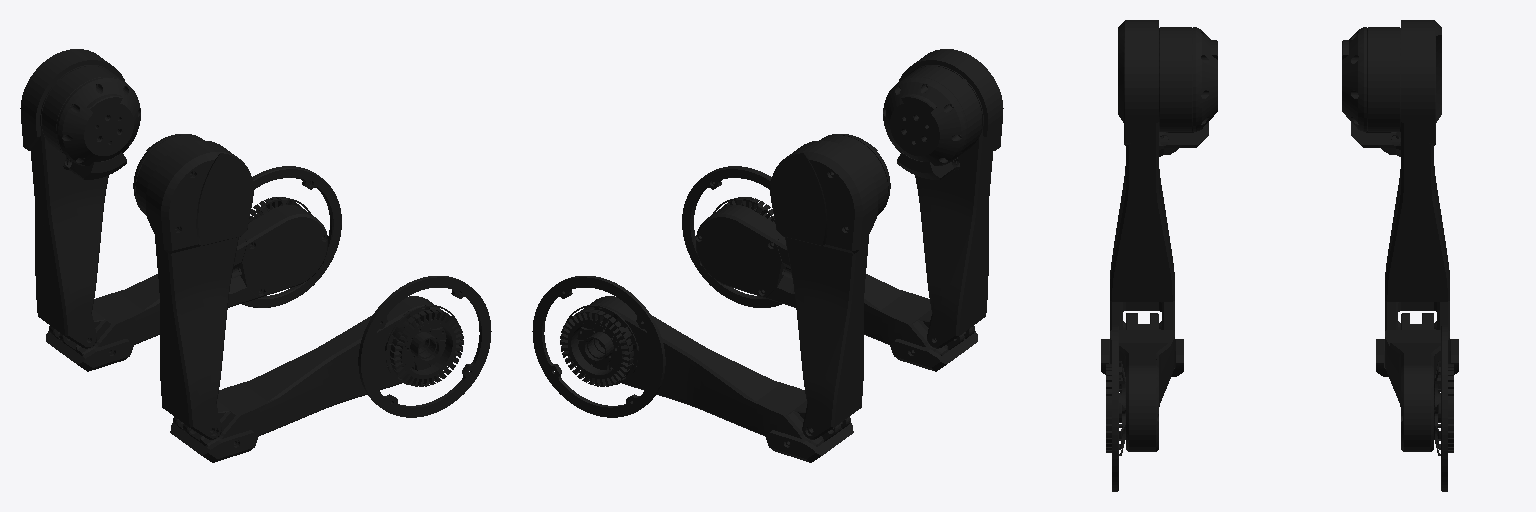
URDF robot description (rhea):
<?xml version="1.0"?>
<!-- created with Phobos 1.0.1 "Capricious Choutengan" -->
  <robot name="rhea">

    <link name="base_link">
      <inertial>
        <origin xyz="0 0 0" rpy="0 0 0"/>
        <mass value="4.0"/>
        <inertia ixx="0.01" ixy="0" ixz="0" iyy="0.01" iyz="0" izz="0.01"/>
      </inertial>
      <visual name="rheav2">
        <origin xyz="0 0 0" rpy="0 0 0"/>
        <geometry>
          <mesh filename="package://rhea_description/meshes/dae/rheav2.dae" scale="1.0 1.0 1.0"/>
        </geometry>
        <material name="Rubber_-_Soft.002"/>
      </visual>
      <collision name="Cube">
        <origin xyz="0 0 -0.01575" rpy="0 0 0"/>
        <geometry>
          <box size="0.216 0.14 0.231"/>
        </geometry>
      </collision>
    </link>

    <link name="imu">
      <inertial>
        <origin xyz="0 0 0" rpy="0 0 0"/>
        <mass value="0.001"/>
        <inertia ixx="0.001" ixy="0" ixz="0" iyy="0.001" iyz="0" izz="0.001"/>
      </inertial>
    </link>

    <link name="left_hip">
      <inertial>
        <origin xyz="0 0 0" rpy="0 0 0"/>
        <mass value="1.0"/>
        <inertia ixx="0.01" ixy="0" ixz="0" iyy="0.01" iyz="0" izz="0.01"/>
      </inertial>
      <visual name="rheav2.006">
        <origin xyz="0 0 0" rpy="1.5708 0 -1.5708"/>
        <geometry>
          <mesh filename="package://rhea_description/meshes/dae/rheav2.006.dae" scale="1.0 1.0 1.0"/>
        </geometry>
        <material name="Rubber_-_Soft.002"/>
      </visual>
      <collision name="Cube.004">
        <origin xyz="0.09575 0 0" rpy="1.5708 0 -1.5708"/>
        <geometry>
          <box size="0.05693 0.0756 0.30004"/>
        </geometry>
      </collision>
    </link>

    <link name="left_knee">
      <inertial>
        <origin xyz="0 0 0" rpy="0 0 0"/>
        <mass value="0.5"/>
        <inertia ixx="0.01" ixy="0" ixz="0" iyy="0.01" iyz="0" izz="0.01"/>
      </inertial>
      <visual name="rheav2.004">
        <origin xyz="0 0 0" rpy="1.5708 0 -1.5708"/>
        <geometry>
          <mesh filename="package://rhea_description/meshes/dae/rheav2.004.dae" scale="1.0 1.0 1.0"/>
        </geometry>
        <material name="Rubber_-_Soft.002"/>
      </visual>
      <collision name="Cube.003">
        <origin xyz="0.12575 0 0" rpy="1.5708 0 -1.5708"/>
        <geometry>
          <box size="0.05693 0.028 0.30004"/>
        </geometry>
      </collision>
    </link>

    <link name="left_wheel">
      <inertial>
        <origin xyz="0 0 0" rpy="0 0 0"/>
        <mass value="1.0"/>
        <inertia ixx="0.01" ixy="0" ixz="0" iyy="0.01" iyz="0" izz="0.01"/>
      </inertial>
      <visual name="rheav2.005">
        <origin xyz="0 0 0.0445" rpy="1.5708 0 -1.5708"/>
        <geometry>
          <mesh filename="package://rhea_description/meshes/dae/rheav2.005.dae" scale="1.0 1.0 1.0"/>
        </geometry>
        <material name="Rubber_-_Soft.002"/>
      </visual>
      <collision name="Cylinder.003">
        <origin xyz="0 0 0.0445" rpy="0 0 -1.0472"/>
        <geometry>
          <cylinder radius="0.11" length="0.048"/>
        </geometry>
      </collision>
    </link>

    <link name="right_hip">
      <inertial>
        <origin xyz="0 0 0" rpy="0 0 0"/>
        <mass value="1.0"/>
        <inertia ixx="0.01" ixy="0" ixz="0" iyy="0.01" iyz="0" izz="0.01"/>
      </inertial>
      <visual name="rheav2.003">
        <origin xyz="0 0 0" rpy="-1.5708 0 1.5708"/>
        <geometry>
          <mesh filename="package://rhea_description/meshes/dae/rheav2.003.dae" scale="1.0 1.0 1.0"/>
        </geometry>
        <material name="Rubber_-_Soft.002"/>
      </visual>
      <collision name="Cube.002">
        <origin xyz="0.09575 0 0" rpy="-1.5708 0 1.5708"/>
        <geometry>
          <box size="0.05693 0.0756 0.30004"/>
        </geometry>
      </collision>
    </link>

    <link name="right_knee">
      <inertial>
        <origin xyz="0 0 0" rpy="0 0 0"/>
        <mass value="0.5"/>
        <inertia ixx="0.01" ixy="0" ixz="0" iyy="0.01" iyz="0" izz="0.01"/>
      </inertial>
      <visual name="rheav2.001">
        <origin xyz="0 0 0" rpy="-1.5708 0 1.5708"/>
        <geometry>
          <mesh filename="package://rhea_description/meshes/dae/rheav2.001.dae" scale="1.0 1.0 1.0"/>
        </geometry>
        <material name="Rubber_-_Soft.002"/>
      </visual>
      <collision name="Cube.001">
        <origin xyz="0.12575 0 0" rpy="-1.5708 0 1.5708"/>
        <geometry>
          <box size="0.05693 0.028 0.30004"/>
        </geometry>
      </collision>
    </link>

    <link name="right_wheel">
      <inertial>
        <origin xyz="0 0 0" rpy="0 0 0"/>
        <mass value="1.0"/>
        <inertia ixx="0.01" ixy="0" ixz="0" iyy="0.01" iyz="0" izz="0.01"/>
      </inertial>
      <visual name="rheav2.002">
        <origin xyz="0 0 0.0445" rpy="-1.5708 0 1.5708"/>
        <geometry>
          <mesh filename="package://rhea_description/meshes/dae/rheav2.002.dae" scale="1.0 1.0 1.0"/>
        </geometry>
        <material name="Rubber_-_Soft.002"/>
      </visual>
      <collision name="Cylinder.001">
        <origin xyz="0 0 0.0445" rpy="0 0 1.0472"/>
        <geometry>
          <cylinder radius="0.11" length="0.048"/>
        </geometry>
      </collision>
    </link>

    <joint name="imu" type="fixed">
      <origin xyz="0 0 0" rpy="1.5708 0 -1.5708"/>
      <parent link="base_link"/>
      <child link="imu"/>
    </joint>

    <joint name="left_hip" type="revolute">
      <origin xyz="0 0.1255 0" rpy="-1.5708 1.5708 0"/>
      <parent link="base_link"/>
      <child link="left_hip"/>
      <axis xyz="0 0 1.0"/>
      <limit lower="-0.68068" upper="2.46091" effort="35.0" velocity="26.0"/>
    </joint>

    <joint name="left_knee" type="revolute">
      <origin xyz="0.25 0 0" rpy="0 0 0"/>
      <parent link="left_hip"/>
      <child link="left_knee"/>
      <axis xyz="0 0 1.0"/>
      <limit lower="-2.75762" upper="-0.66323" effort="35.0" velocity="26.0"/>
    </joint>

    <joint name="left_wheel" type="continuous">
      <origin xyz="0.25 0 0" rpy="0 0 0"/>
      <parent link="left_knee"/>
      <child link="left_wheel"/>
      <axis xyz="0 0 1.0"/>
      <limit effort="2.0" velocity="250.0"/>
    </joint>

    <joint name="right_hip" type="revolute">
      <origin xyz="0 -0.1255 0" rpy="1.5708 1.5708 0"/>
      <parent link="base_link"/>
      <child link="right_hip"/>
      <axis xyz="0 0 1.0"/>
      <limit lower="-2.46091" upper="0.68068" effort="35.0" velocity="26.0"/>
    </joint>

    <joint name="right_knee" type="revolute">
      <origin xyz="0.25 0 0" rpy="0 0 0"/>
      <parent link="right_hip"/>
      <child link="right_knee"/>
      <axis xyz="0 0 1.0"/>
      <limit lower="0.66323" upper="2.75762" effort="35.0" velocity="26.0"/>
    </joint>

    <joint name="right_wheel" type="continuous">
      <origin xyz="0.25 0 0" rpy="0 0 0"/>
      <parent link="right_knee"/>
      <child link="right_wheel"/>
      <axis xyz="0 0 1.0"/>
      <limit effort="2.0" velocity="250.0"/>
    </joint>

    <material name="Rubber_-_Soft.002">
      <color rgba="0.15294 0.15294 0.15294 1.0"/>
    </material>

  </robot>

--- Facts derived from the render (not from the file) ---
Views: 3 orthographic renders of the robot side by side, from view 1: azimuth 30°, elevation 25°; view 2: azimuth 150°, elevation 25°; view 3: azimuth 270°, elevation 25°.
Model rhea with 8 links and 7 joints (4 revolute, 2 continuous, 1 fixed), rooted at base_link, posed joints at zero except 2 at the middle of their limits (left_knee = -1.71, right_knee = 1.71).
Visible links, largest first — view 1: right_hip, left_hip, right_knee, left_knee; view 2: left_hip, right_hip, left_knee, right_knee; view 3: left_hip, right_hip, left_knee, right_knee.
Boxes of the visible links, x1,y1,x2,y2 form: right_hip: [133, 134, 253, 439]; left_hip: [20, 49, 140, 348]; right_knee: [170, 276, 491, 462]; left_knee: [46, 166, 341, 371]; left_hip: [770, 134, 890, 439]; right_hip: [883, 49, 1003, 348]; left_knee: [532, 276, 853, 462]; right_knee: [682, 166, 977, 371]; left_hip: [1342, 20, 1449, 330]; right_hip: [1110, 20, 1217, 330]; left_knee: [1376, 313, 1458, 491]; right_knee: [1101, 313, 1183, 491].
Bounding box of the posed robot: 0.3775 × 0.326 × 0.3451 m (x, y, z).
4 mesh visuals loaded from 7 distinct referenced files (4 Collada DAE); not drawn: 3 (reference not matched to a file when rendering).
